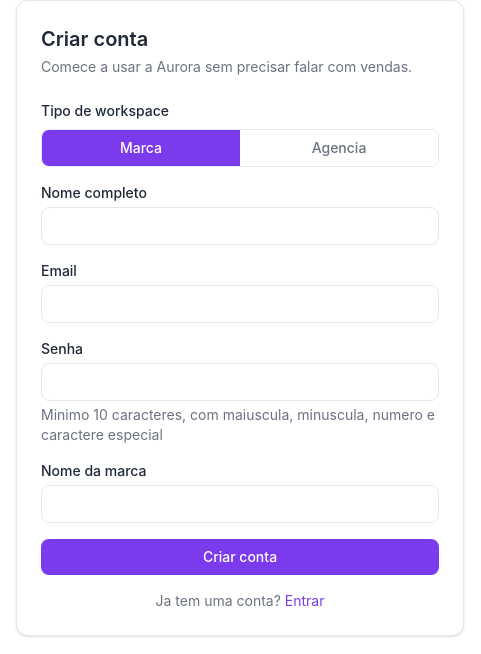
it: RegisterPage - US-01 Self-Service Sign-Up › should show verification email message after successful registration
This screenshot has width=481, height=654.
Type "Marina Silva" into the field labelled "Nome completo" at (240, 226), box [41,207,439,245]
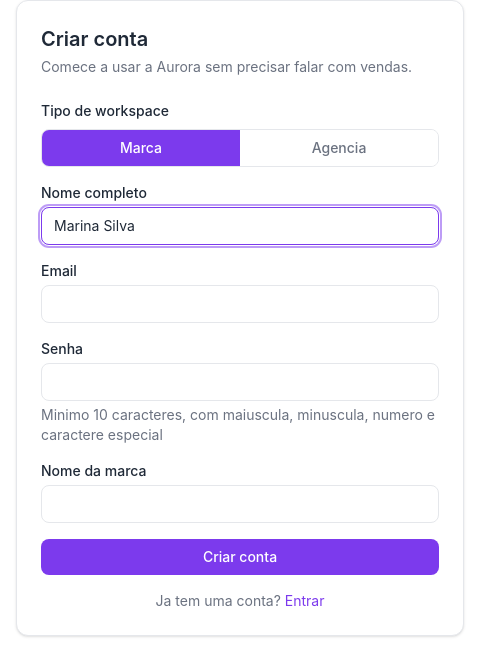
Type "marina@brand.com" into the field labelled "Email" at (240, 304), box [41,285,439,323]
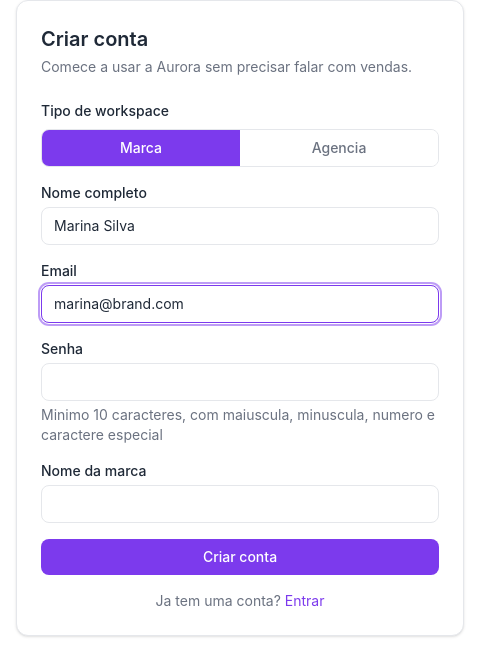
Type "StrongP@ss1!" into the password field labelled "Senha" at (240, 382), box [41,363,439,401]
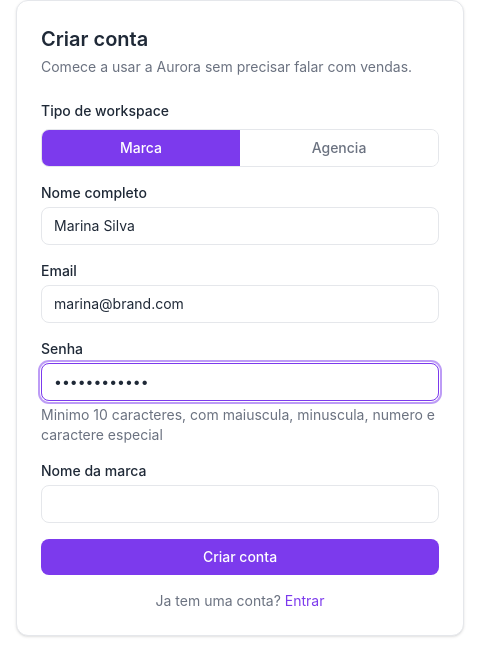
Type "My Brand" into the field labelled "Nome da marca" at (240, 504), box [41,485,439,523]
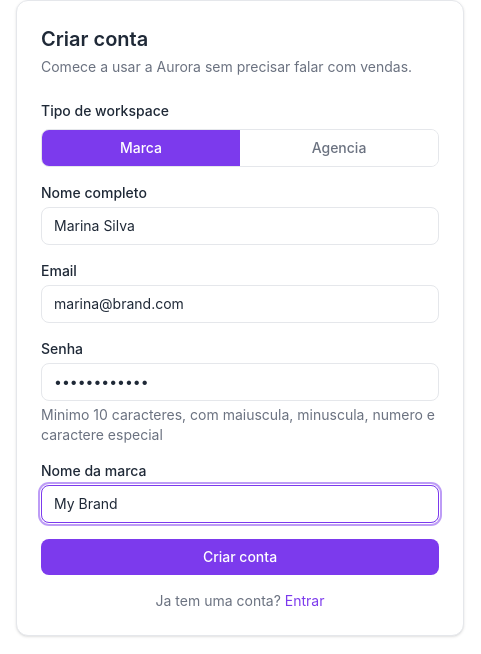
Click the button "Criar conta" at (240, 557), box [41,539,439,575]
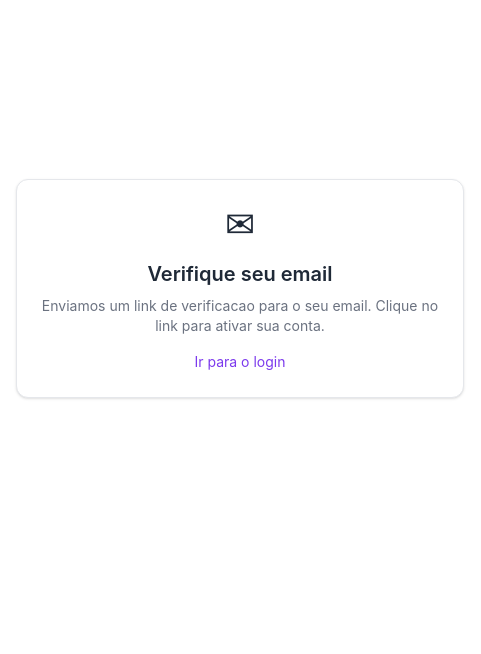
Expected: the heading "Verifique seu email" is shown, [147,262,332,286]
